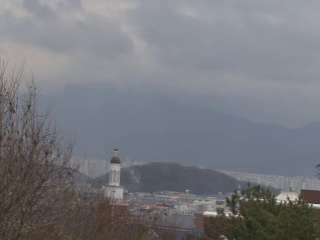smoke: (120, 167, 138, 189)
